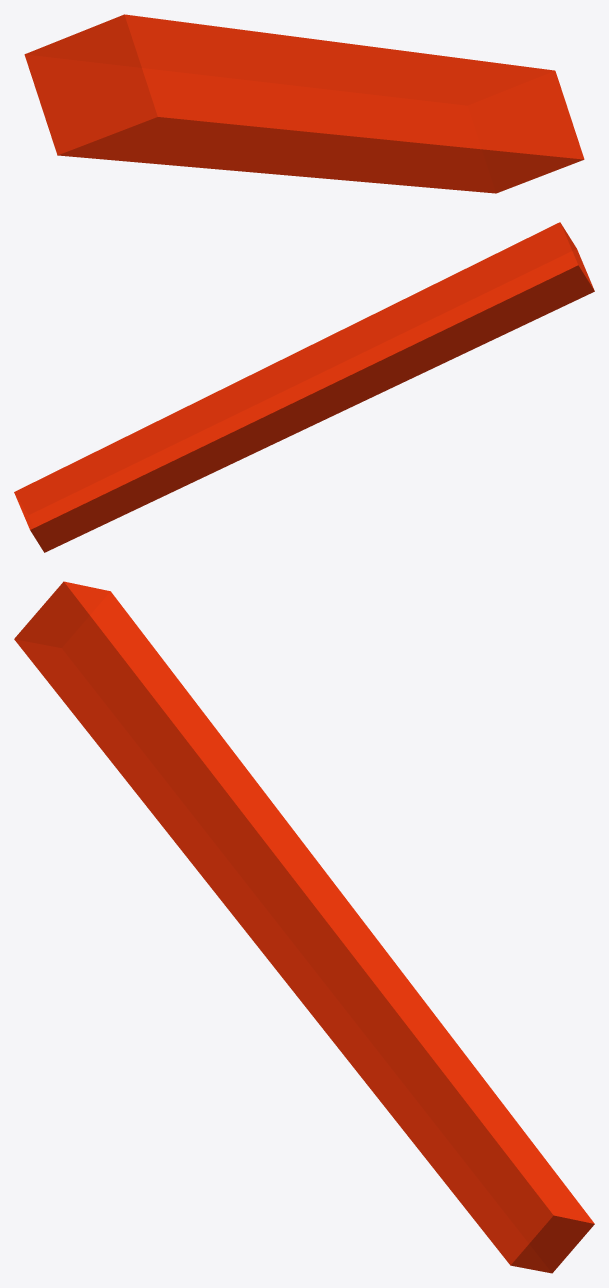
File: Event_421364160_EBrechit_3.fbx
The picture shows the model from 3 angles, top to bottom: view 1: azimuth 30°, elevation 25°; view 2: azimuth 150°, elevation 25°; view 3: azimuth 270°, elevation 25°; orthographic projection. The views are drawn at different scales.
Parts seen in each view (by area): view 1: Model; view 2: Model; view 3: Model.
Part boxes in pixels (left/top/right/bottom): Model: left=24, top=14, right=584, bottom=193; Model: left=14, top=222, right=594, bottom=552; Model: left=14, top=581, right=594, bottom=1273.
Bounding box in the file's own units: 0.5672 × 0.3864 × 0.4641.
